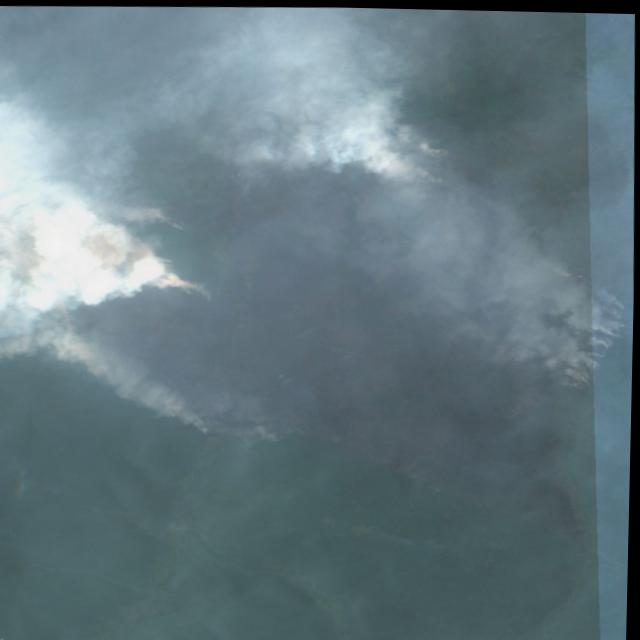fire: (26, 209, 325, 445), (535, 239, 636, 387), (352, 96, 452, 192)
